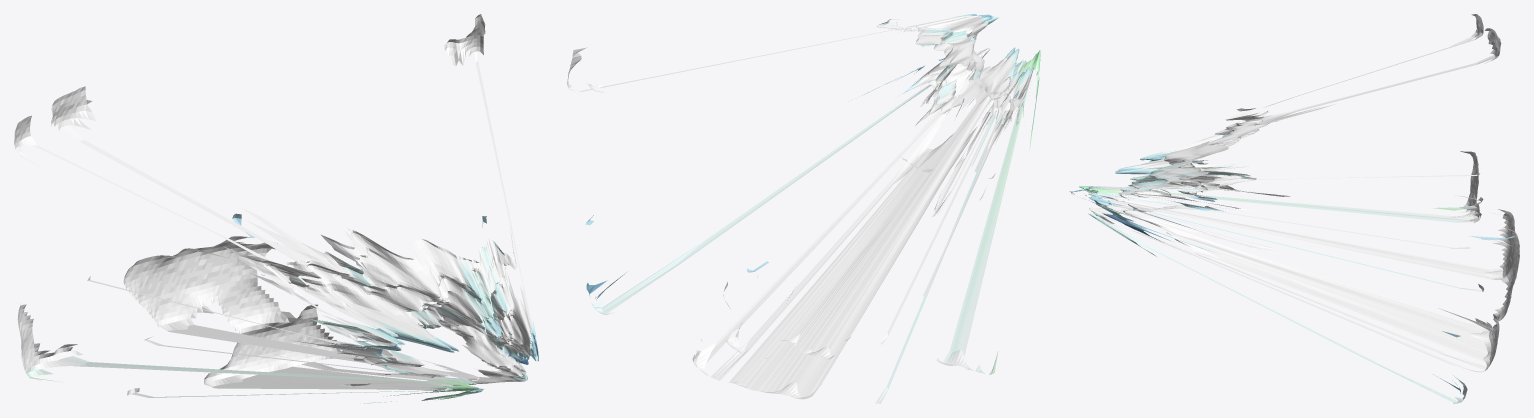
3 renders of one model, left to right at view 1: azimuth 30°, elevation 25°; view 2: azimuth 150°, elevation 25°; view 3: azimuth 270°, elevation 25°, orthographic. The views are drawn at different scales.
Parts seen in each view (by area): view 1: defaultobject; view 2: defaultobject; view 3: defaultobject.
Boxes of the visible parts, x1,y1,x2,y2 form: defaultobject: (14, 14, 538, 403); defaultobject: (567, 14, 1040, 403); defaultobject: (1069, 14, 1519, 403).
Size of the model in its own units: 40.55 by 26.69 by 43.92.
Materials: 1 (1 with a texture image).
